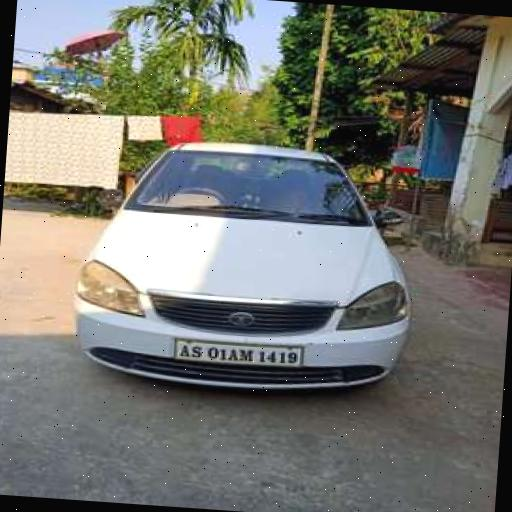license_plate`: (174, 334, 301, 366)
